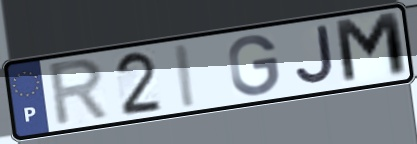2: (112, 48, 166, 120)
G: (226, 33, 282, 99)
I: (171, 41, 200, 112)
J: (292, 23, 338, 88)
M: (331, 9, 412, 88)
R: (47, 55, 114, 130)
